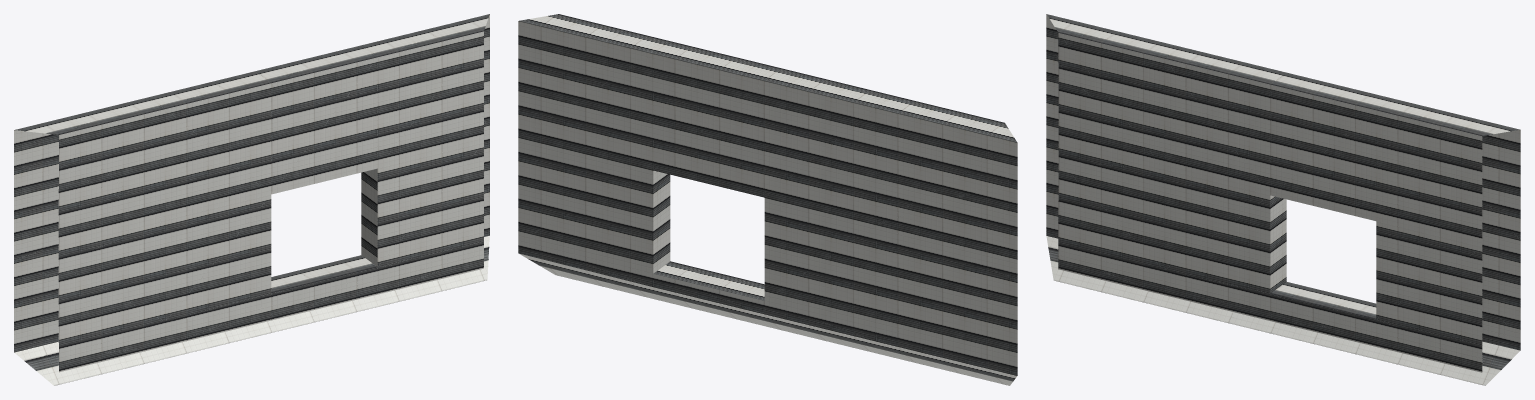
Rendered from Central_Wall_1.FBX.
3 views of the same model, side by side, from view 1: azimuth 30°, elevation 25°; view 2: azimuth 150°, elevation 25°; view 3: azimuth 330°, elevation 25° (orthographic). The views are drawn at different scales.
Visible parts, largest first — view 1: Central_Wall_1; view 2: Central_Wall_1; view 3: Central_Wall_1.
Boxes of the visible parts, <box> form: Central_Wall_1: <box>14,14,489,385</box>; Central_Wall_1: <box>518,14,1017,385</box>; Central_Wall_1: <box>1046,14,1520,385</box>.
Bounding box in the file's own units: 336 × 168 × 20.
